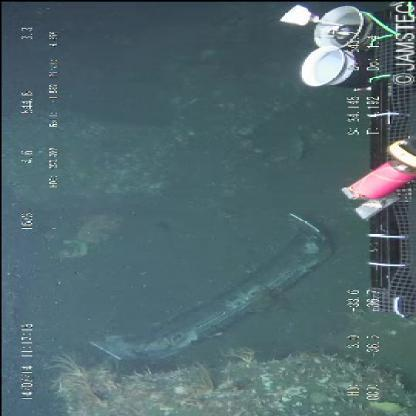Rov: (273, 0, 410, 330)
Rác: (86, 202, 338, 370)
